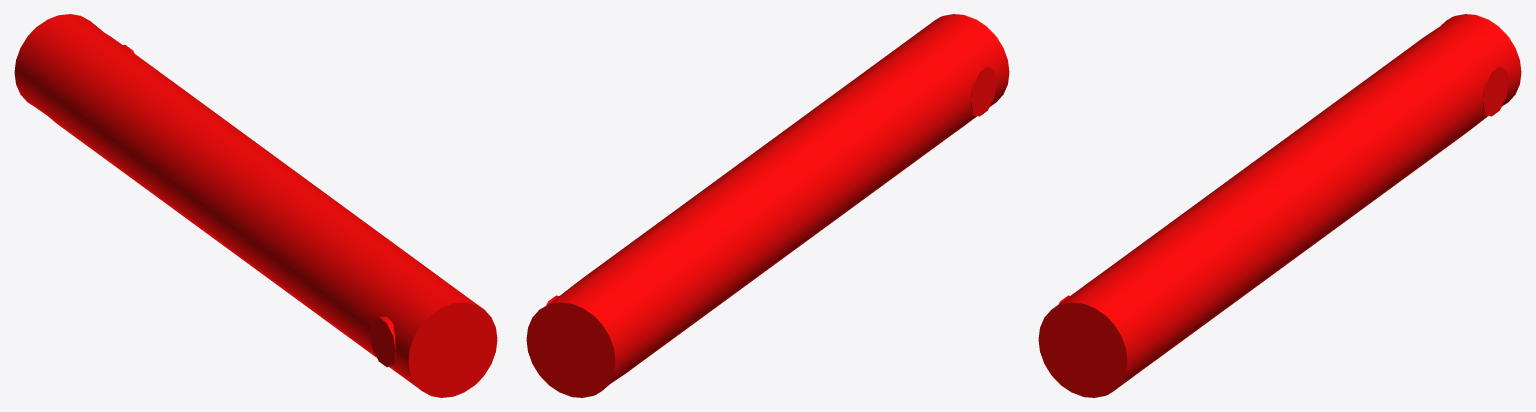
File: pendel_arm_1.obj
3 renders of one model, left to right at view 1: azimuth 30°, elevation 25°; view 2: azimuth 150°, elevation 25°; view 3: azimuth 330°, elevation 25°, orthographic.
Visible parts, largest first — view 1: 1; view 2: 1; view 3: 1.
Boxes of the visible parts, bbox=[...] form: 1: bbox=[14, 14, 497, 397]; 1: bbox=[526, 14, 1009, 397]; 1: bbox=[1038, 14, 1521, 397].
Bounding box in the file's own units: 30 × 30 × 230.
